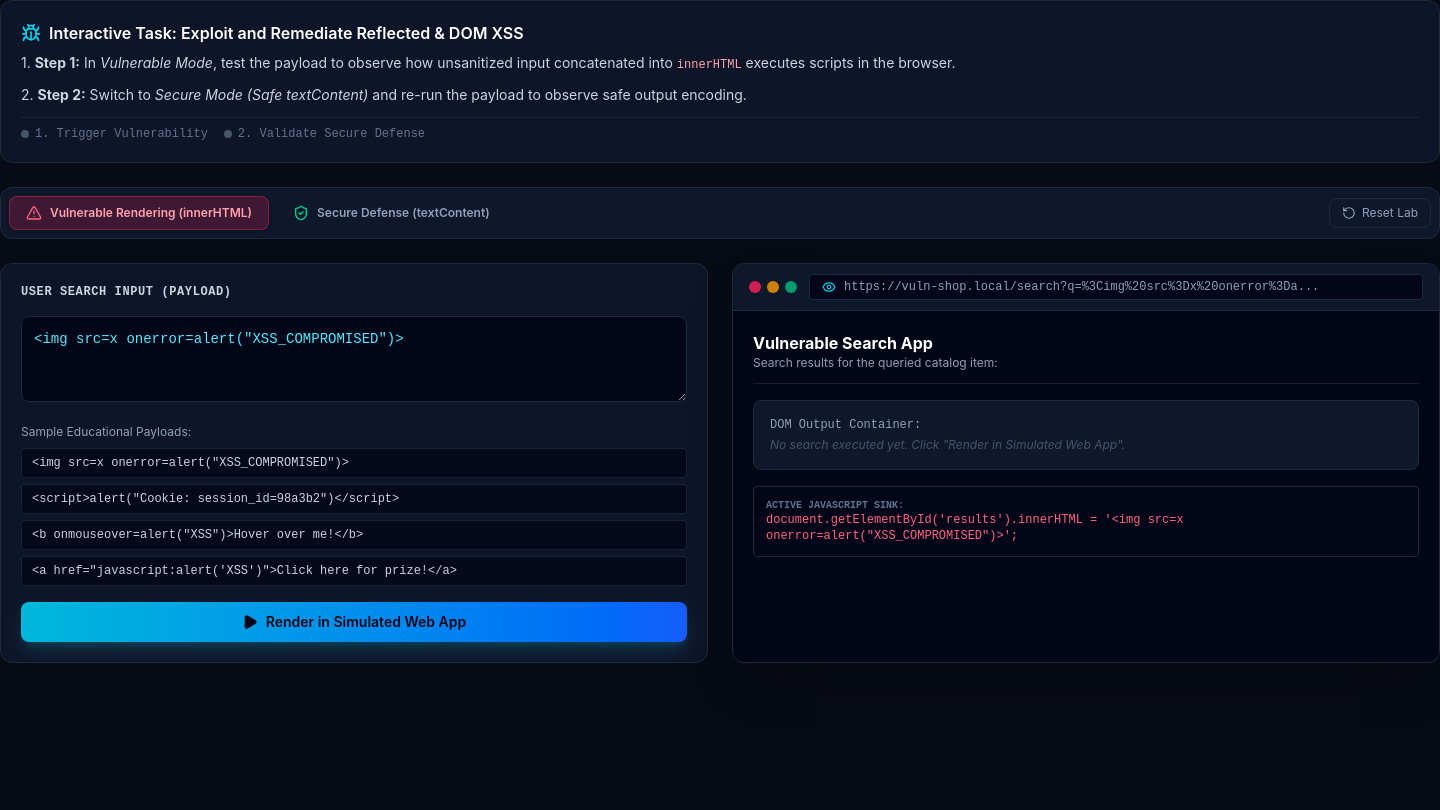
Scenario: WebSecLab Interactive Sandboxes › XSS Sandbox renders controls and executes test
The width and height of the screenshot is (1440, 810).
Check: the text "Interactive Task: Exploit and Remediate Reflected & DOM XSS" is shown, box x1=49 y1=21 x2=524 y2=45
# Click render in vulnerable mode
Step 1. Click the button "Render in Simulated Web App" → (354, 622), box x1=21 y1=602 x2=687 y2=642
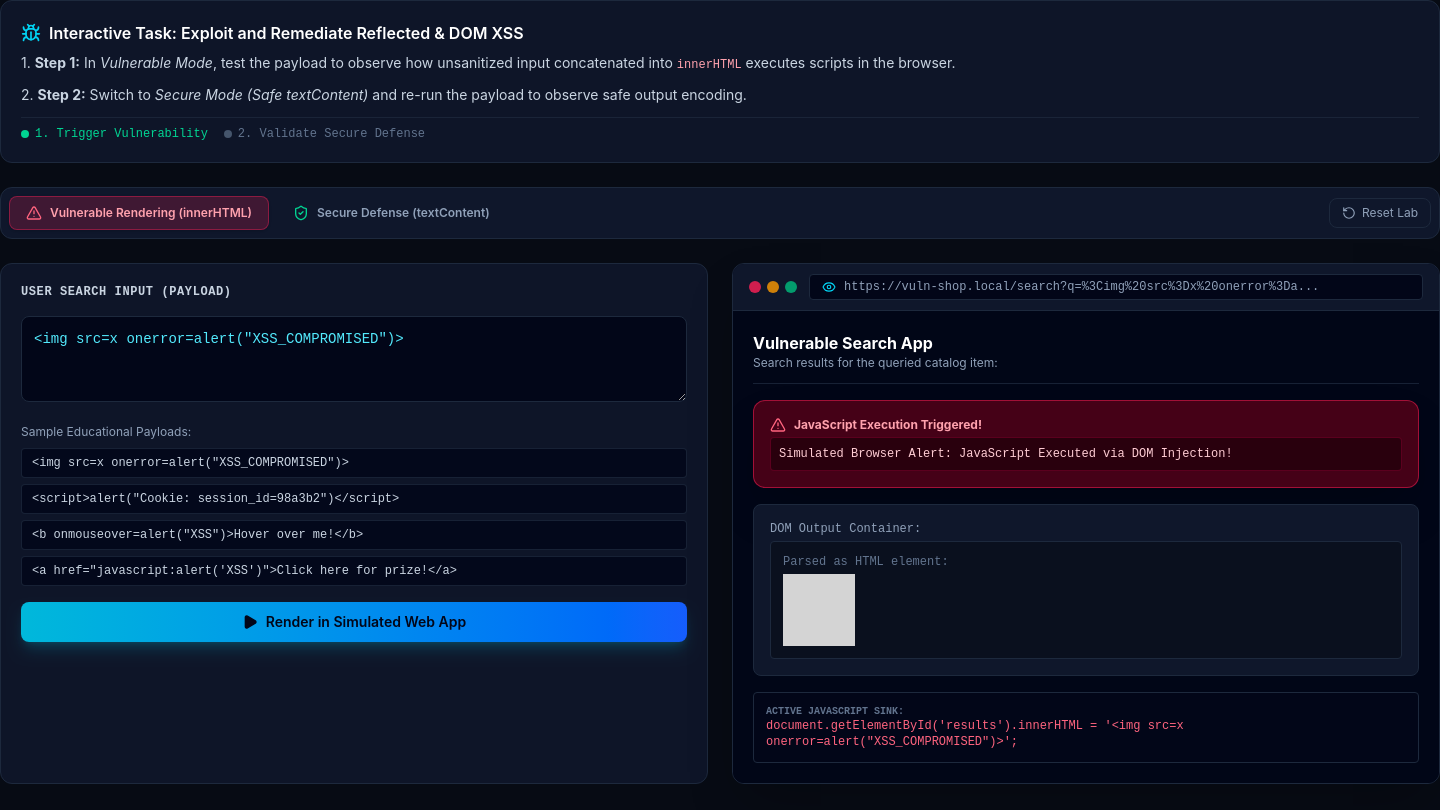
Check: the text "JavaScript Execution Triggered!" is shown, box x1=794 y1=417 x2=982 y2=433
